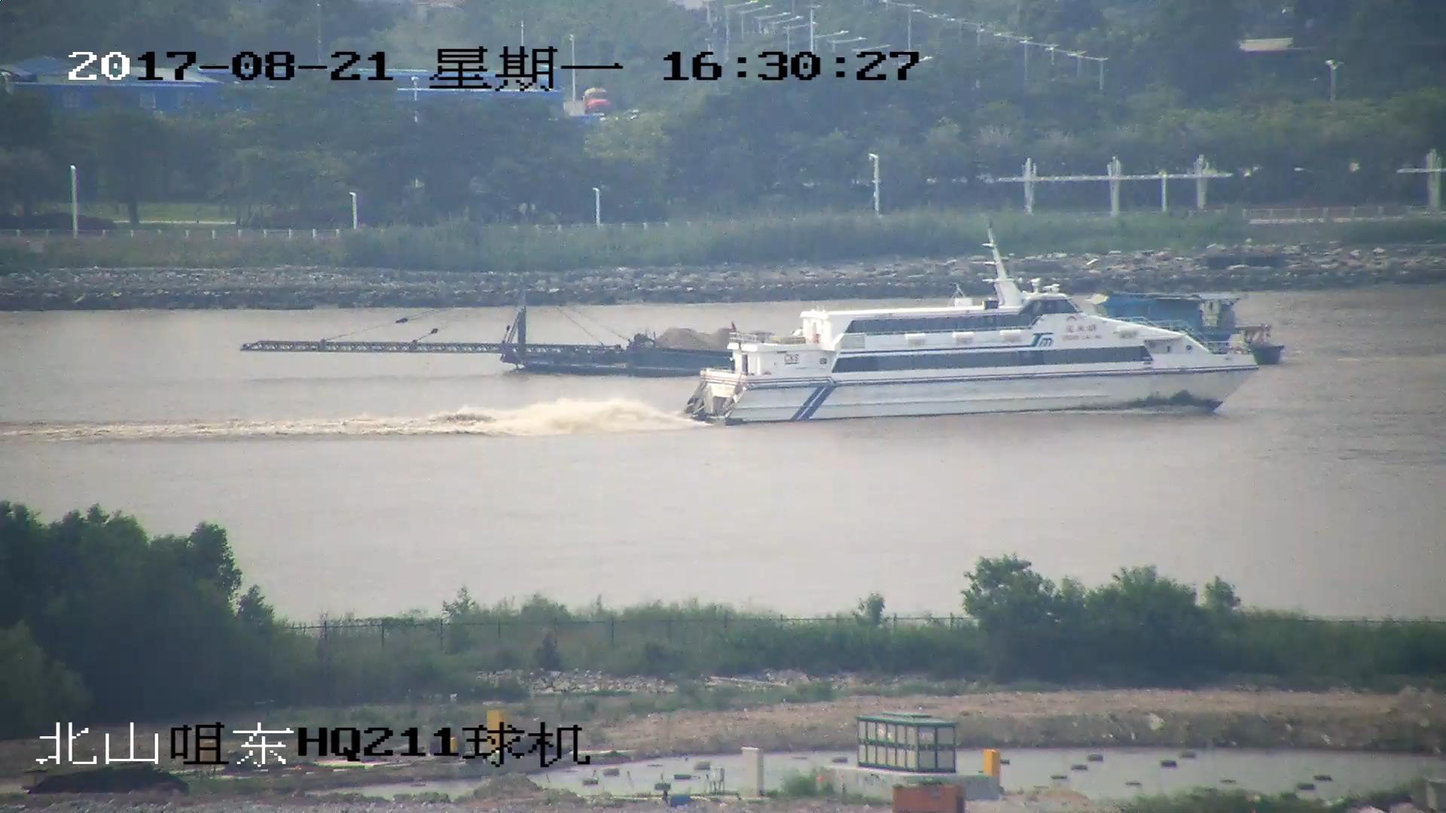ore carrier: (247, 285, 1286, 370)
passenger ship: (683, 239, 1258, 425)
